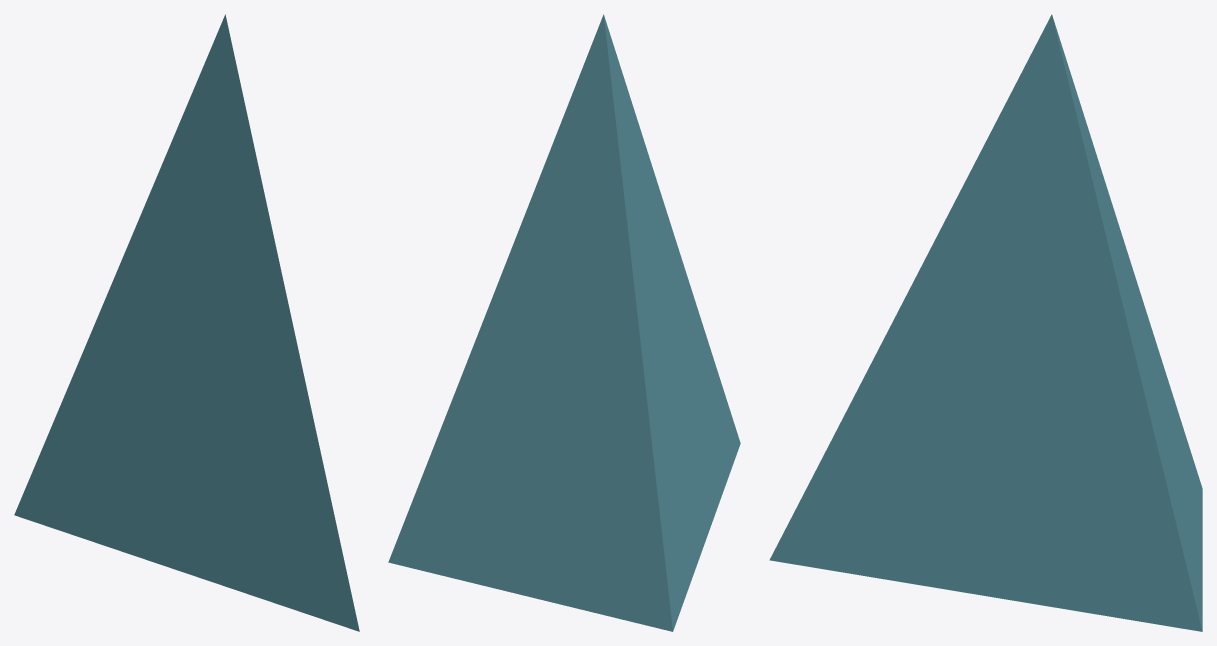
The model's file is historico_piramide_triangular_didactica.glb.
The picture shows the model from 3 angles, left to right: view 1: azimuth 30°, elevation 25°; view 2: azimuth 150°, elevation 25°; view 3: azimuth 270°, elevation 25°; orthographic projection. The views are drawn at different scales.
Parts seen in each view (by area): view 1: world; view 2: world; view 3: world.
Boxes of the visible parts, x1=… form: world: x1=14, y1=14, x2=359, y2=631; world: x1=388, y1=14, x2=740, y2=631; world: x1=769, y1=14, x2=1202, y2=631.
Bounding box in the file's own units: 0.9 × 1.6 × 1.15.
